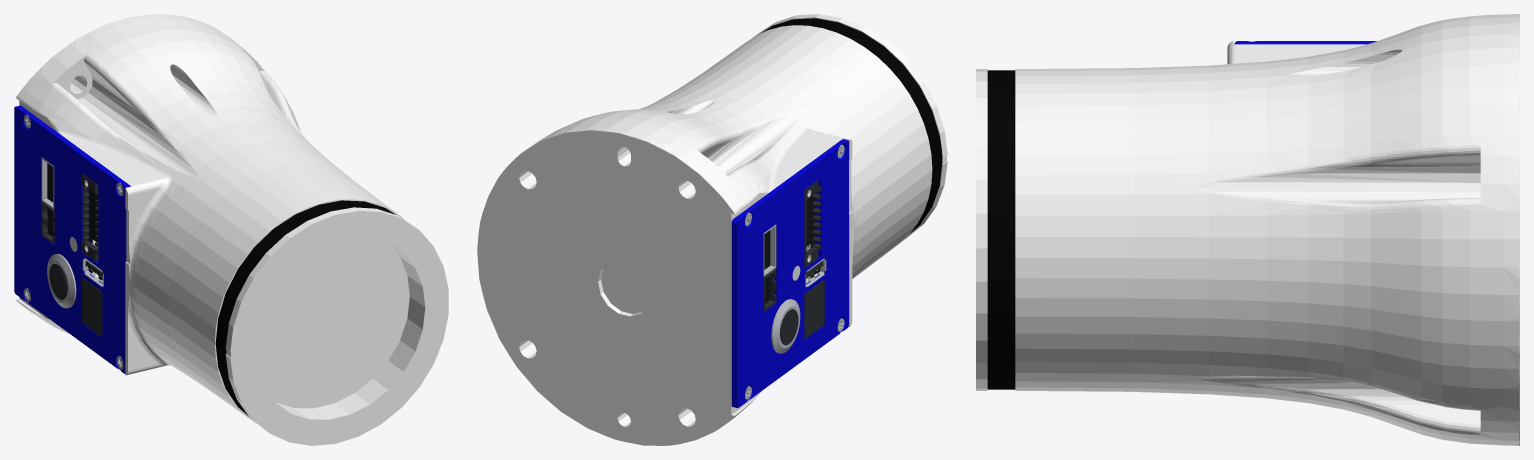
3 renders of one model, left to right at view 1: azimuth 30°, elevation 25°; view 2: azimuth 150°, elevation 25°; view 3: azimuth 270°, elevation 25°, orthographic. The views are drawn at different scales.
Parts seen in each view (by area): view 1: Link; view 2: Link; view 3: Link.
Boxes of the visible parts, x1=… form: Link: x1=14, y1=14, x2=448, y2=445; Link: x1=477, y1=14, x2=947, y2=445; Link: x1=976, y1=14, x2=1519, y2=445.
Size of the model in its own units: 0.0985 by 0.11 by 0.1385.
